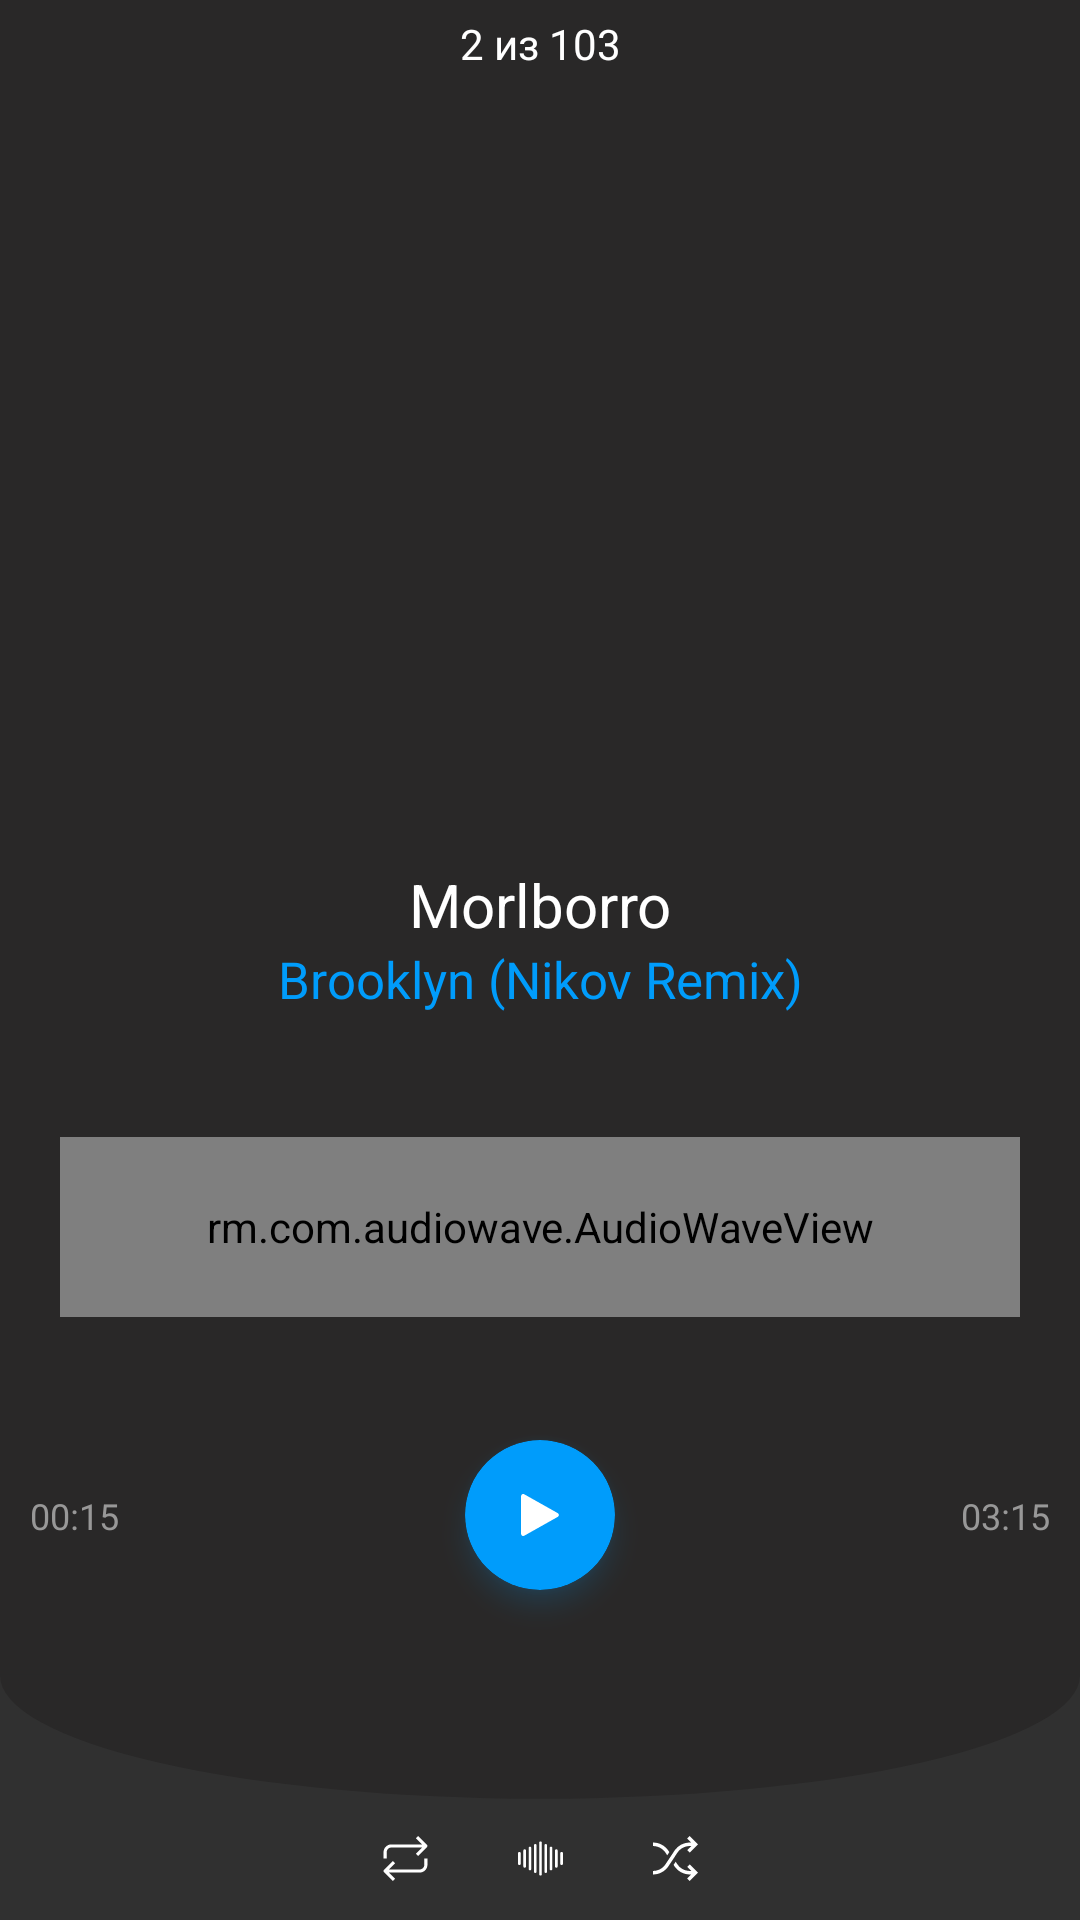

Where icons sit on this 1080*1920 app screen, as (x1=x1, y1=y1, x2=x2, y2=y2):
equalizer: (x1=518, y1=1841, x2=563, y2=1876)
loop: (x1=383, y1=1836, x2=428, y2=1881)
play: (x1=465, y1=1440, x2=615, y2=1590)
